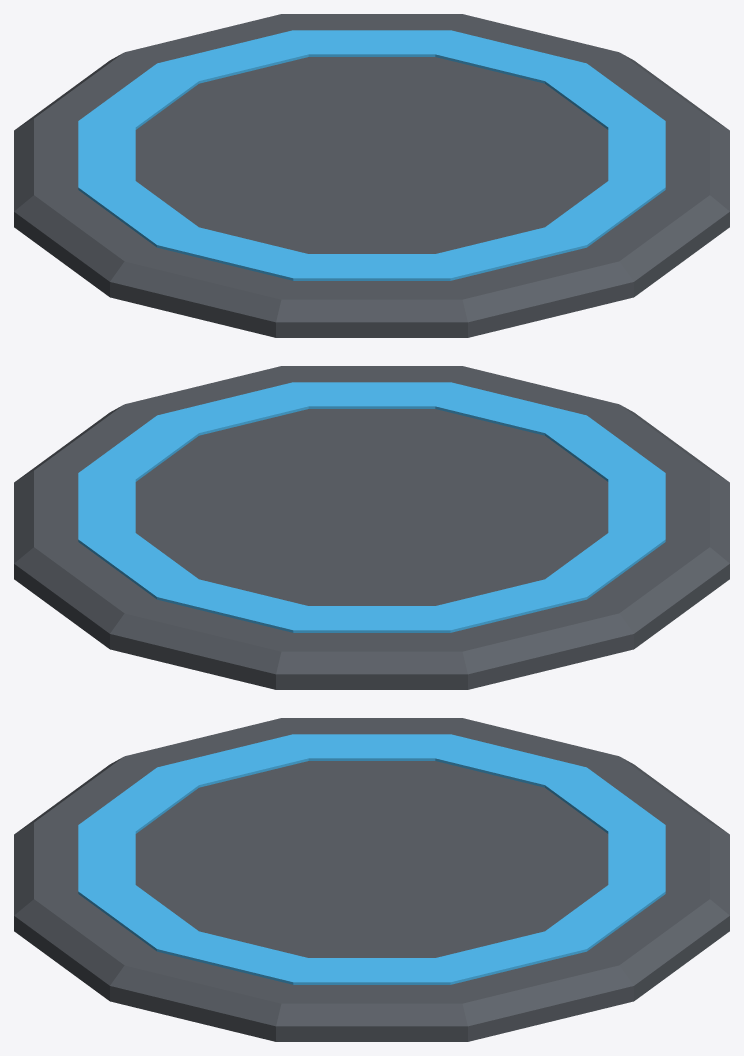
File: ENV_SpawnPad.fbx
The picture shows the model from 3 angles, top to bottom: view 1: azimuth 30°, elevation 25°; view 2: azimuth 150°, elevation 25°; view 3: azimuth 270°, elevation 25°; orthographic projection.
Parts seen in each view (by area): view 1: Base, Ring; view 2: Base, Ring; view 3: Base, Ring.
Boxes of the visible parts, x1,y1,x2,y2 form: Base: (14,14,729,337); Ring: (78,30,665,280); Base: (14,366,729,689); Ring: (78,382,665,632); Base: (14,718,729,1041); Ring: (78,734,665,984).
Bounding box in the file's own units: 10 × 0.5 × 10.
